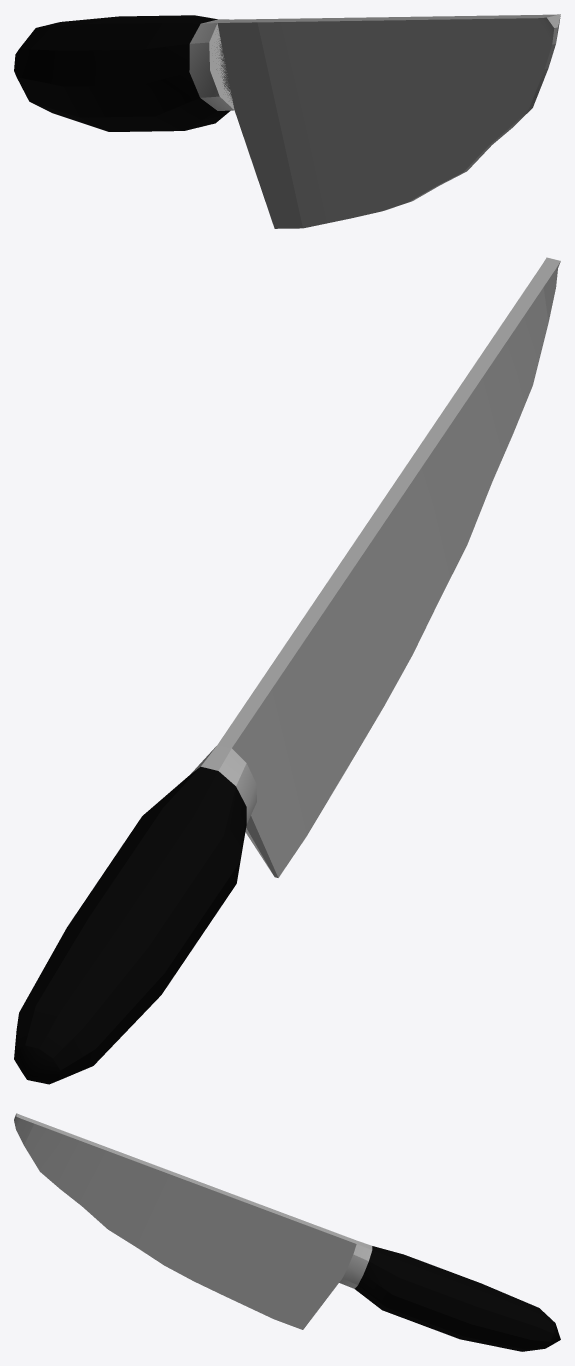
The model's file is KnifeNew.fbx.
3 renders of one model, top to bottom at view 1: azimuth 30°, elevation 25°; view 2: azimuth 150°, elevation 25°; view 3: azimuth 270°, elevation 25°, orthographic. The views are drawn at different scales.
Parts seen in each view (by area): view 1: Knife; view 2: Knife; view 3: Knife.
Boxes of the visible parts, <box> form: Knife: <box>14,14,560,228</box>; Knife: <box>14,257,560,1084</box>; Knife: <box>14,1113,560,1351</box>.
Size of the model in its own units: 3.57 by 15.33 by 32.5.
